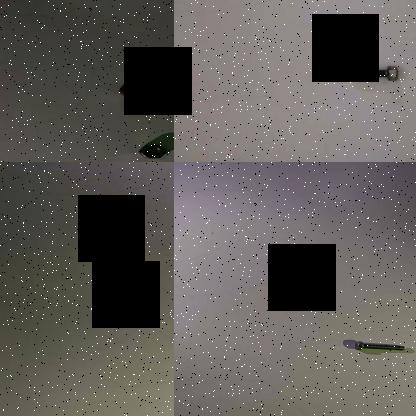Bolts: (348, 60, 402, 84), (346, 339, 412, 352)
NUTS: (117, 77, 157, 99), (139, 142, 168, 160)
